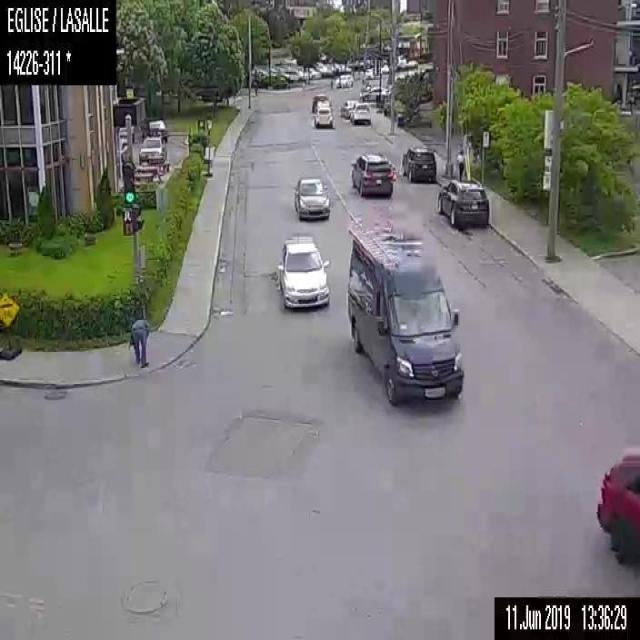pedestrian: (128, 316, 151, 367), (456, 145, 466, 176)
vehicle: (344, 223, 464, 404), (596, 444, 639, 564), (275, 233, 330, 308), (434, 175, 492, 229), (350, 148, 394, 195), (293, 174, 331, 218), (400, 144, 436, 184), (310, 92, 335, 129), (139, 134, 167, 161), (147, 119, 171, 141), (349, 102, 371, 123), (361, 86, 385, 102), (339, 99, 359, 118), (335, 73, 354, 87)
